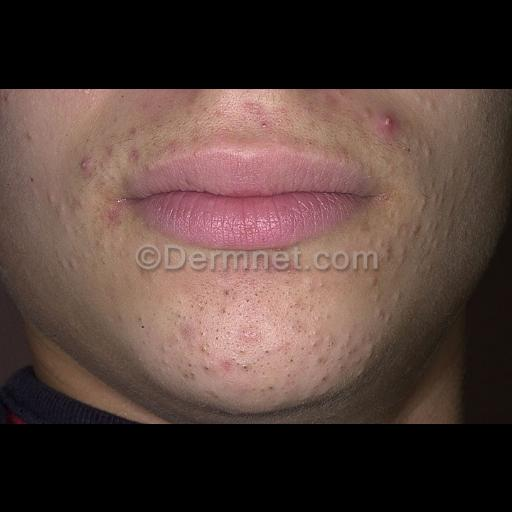Skin_Lesion: (211, 290, 239, 320), (244, 102, 274, 130), (235, 349, 269, 373), (194, 344, 218, 376), (304, 331, 338, 353), (100, 204, 126, 226), (378, 114, 402, 136), (316, 360, 336, 384), (292, 299, 314, 315), (199, 328, 223, 342), (374, 308, 394, 324), (378, 244, 398, 260), (242, 326, 262, 342), (244, 290, 266, 304), (173, 306, 195, 318), (126, 146, 142, 162), (330, 88, 350, 100), (360, 104, 374, 120), (76, 160, 92, 172), (262, 382, 278, 394), (368, 274, 384, 286), (356, 363, 368, 379), (180, 324, 194, 336), (160, 344, 174, 354), (285, 366, 295, 380), (134, 315, 146, 325), (368, 345, 378, 357), (126, 126, 138, 134), (278, 340, 286, 350), (412, 224, 422, 232)
